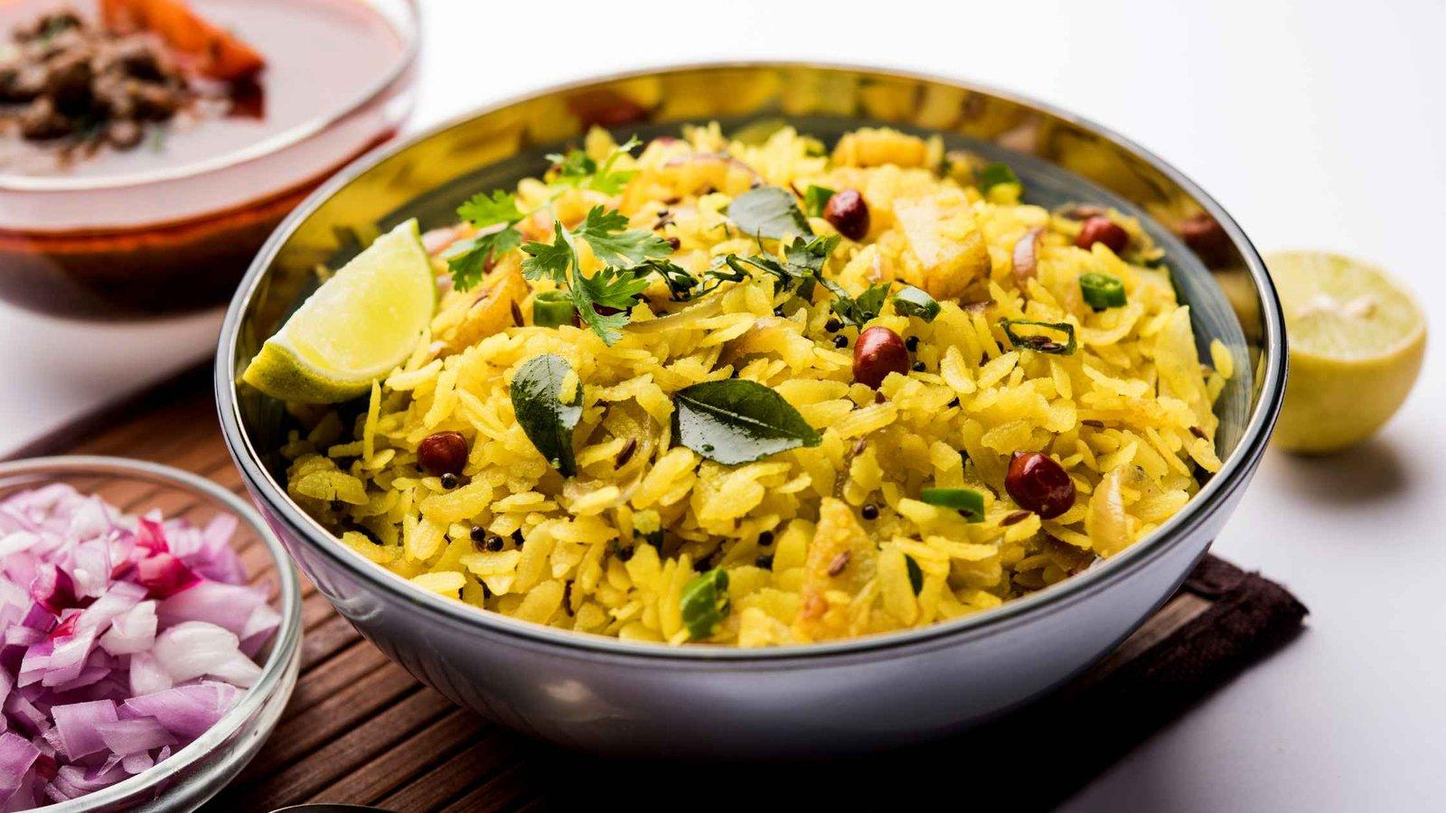poha: (294, 132, 1222, 660)
